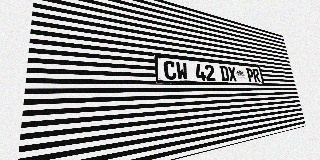plate: (154, 55, 264, 85)
